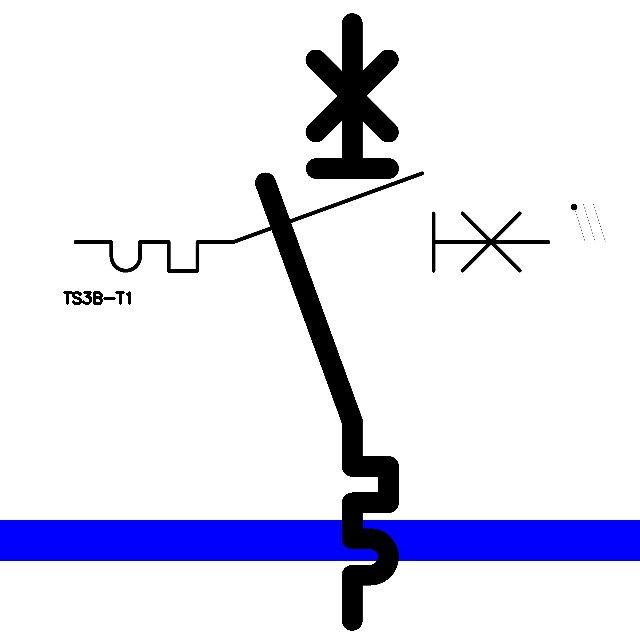interruptor_termomagnetico: (250, 8, 404, 636), (63, 161, 560, 283)
